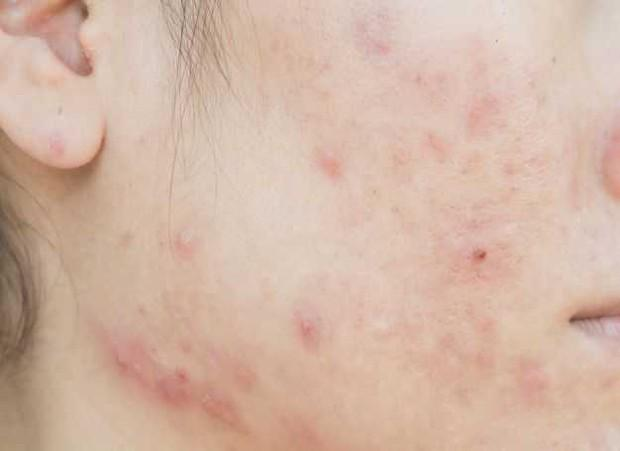Acne: (102, 313, 233, 432), (362, 121, 452, 171), (334, 4, 399, 66), (451, 228, 510, 293), (449, 83, 514, 141), (267, 298, 327, 353), (299, 141, 353, 193), (156, 214, 204, 261)
